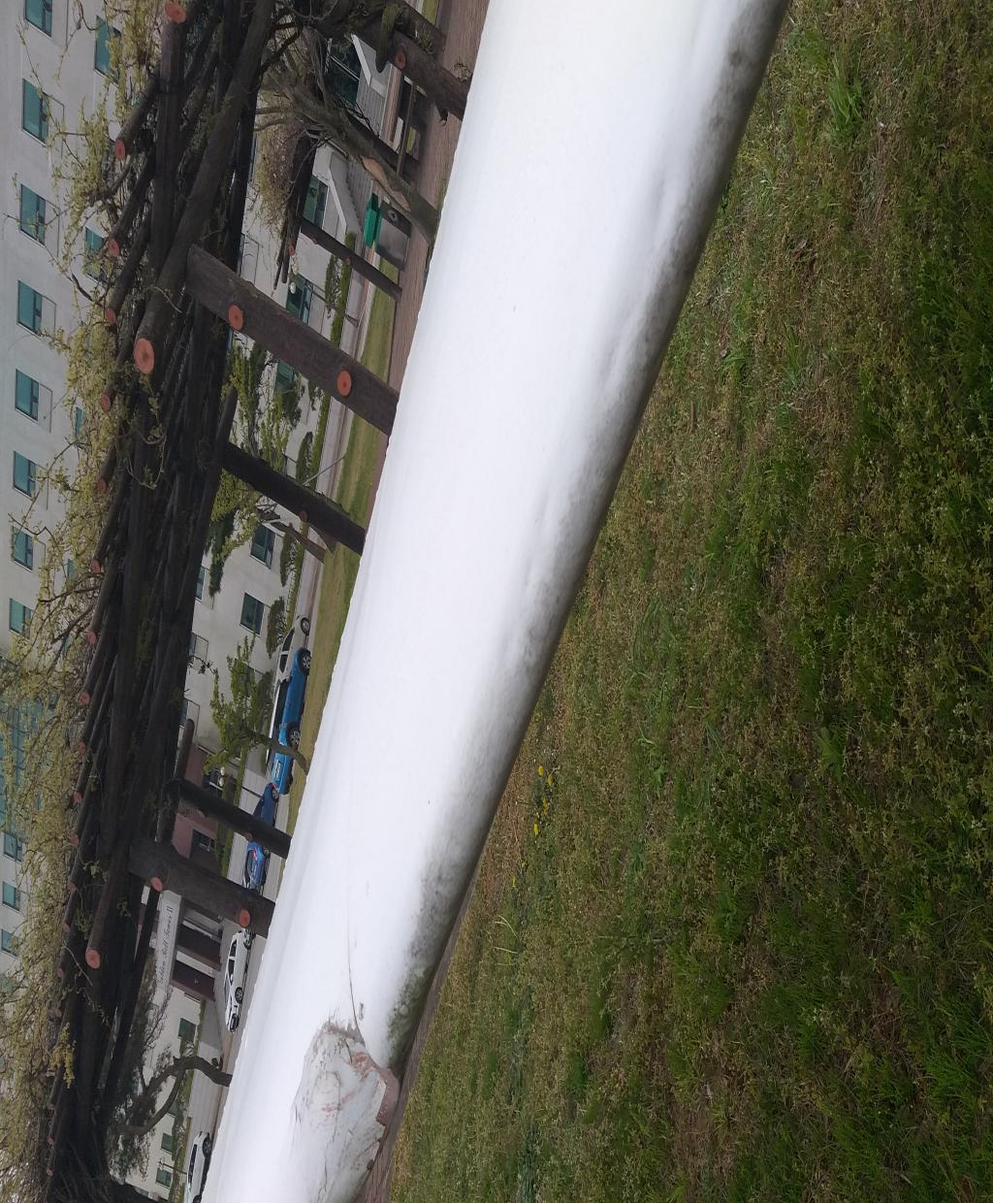corrosion: (5, 623, 87, 849)
